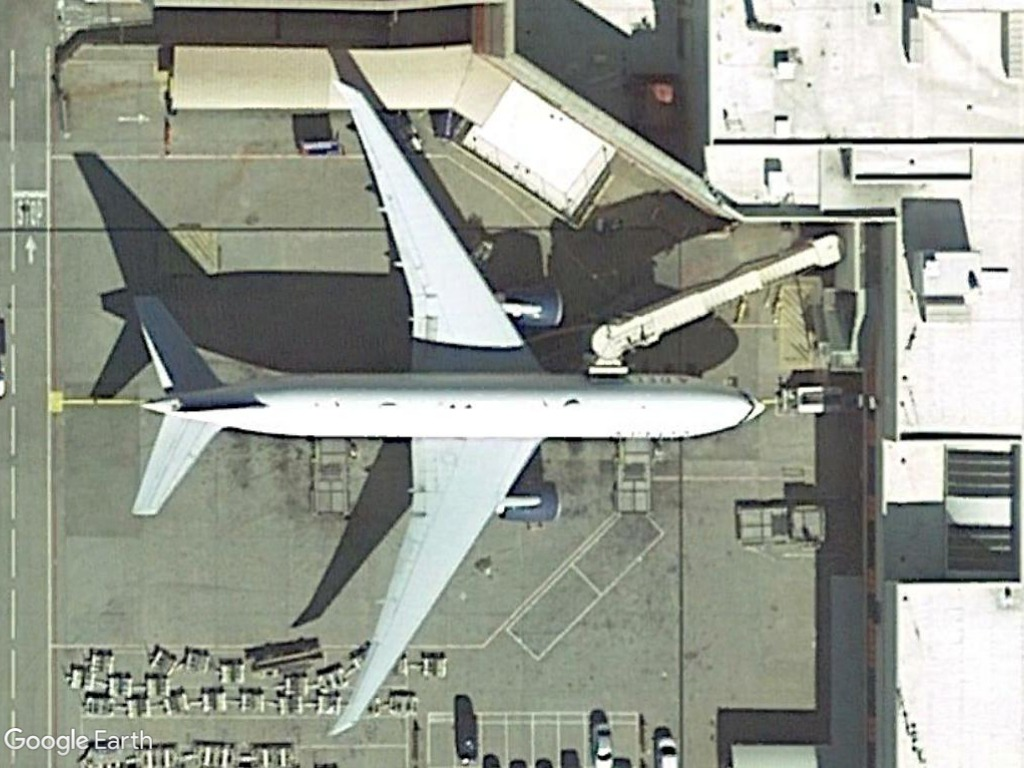airliner: (91, 62, 766, 733)
